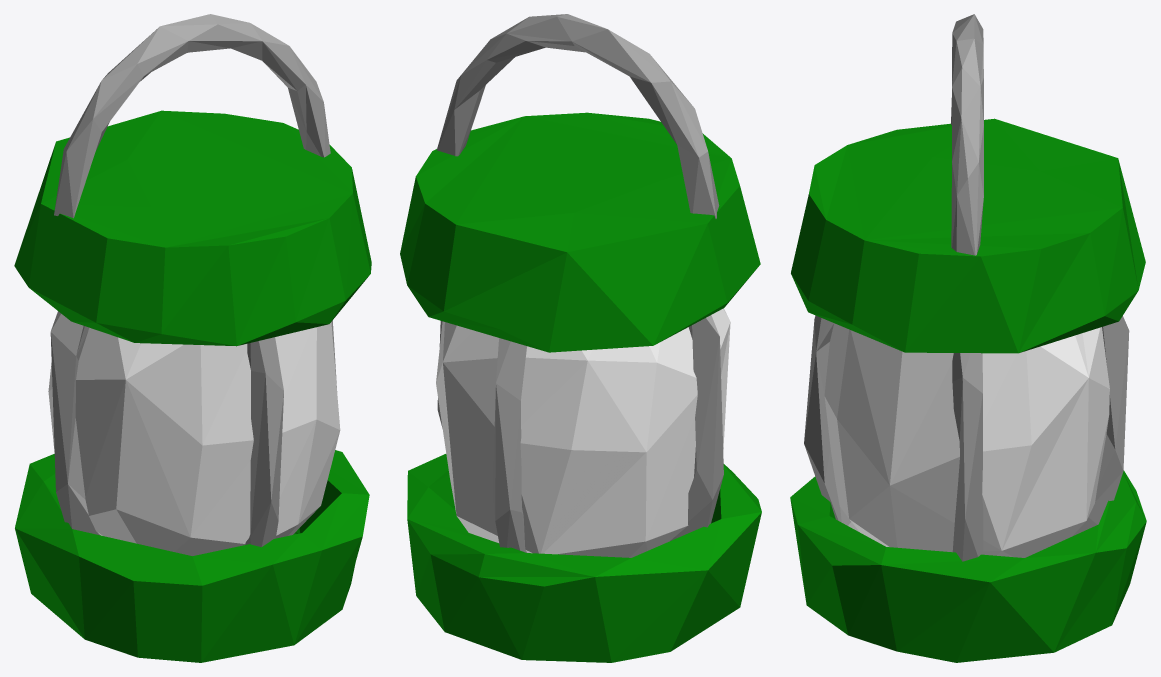
The model's file is Oellampe__Mesh_LOD.fbx.
3 views of the same model, side by side, from view 1: azimuth 30°, elevation 25°; view 2: azimuth 150°, elevation 25°; view 3: azimuth 270°, elevation 25° (orthographic).
Visible parts, largest first — view 1: Oellampe_LOD0; view 2: Oellampe_LOD0; view 3: Oellampe_LOD0.
Boxes of the visible parts, x1,y1,x2,y2 form: Oellampe_LOD0: (14, 14, 371, 662); Oellampe_LOD0: (400, 14, 761, 662); Oellampe_LOD0: (790, 14, 1146, 662).
Size of what is drawn, in the model's own units: 6.6 by 11.46 by 6.5.
